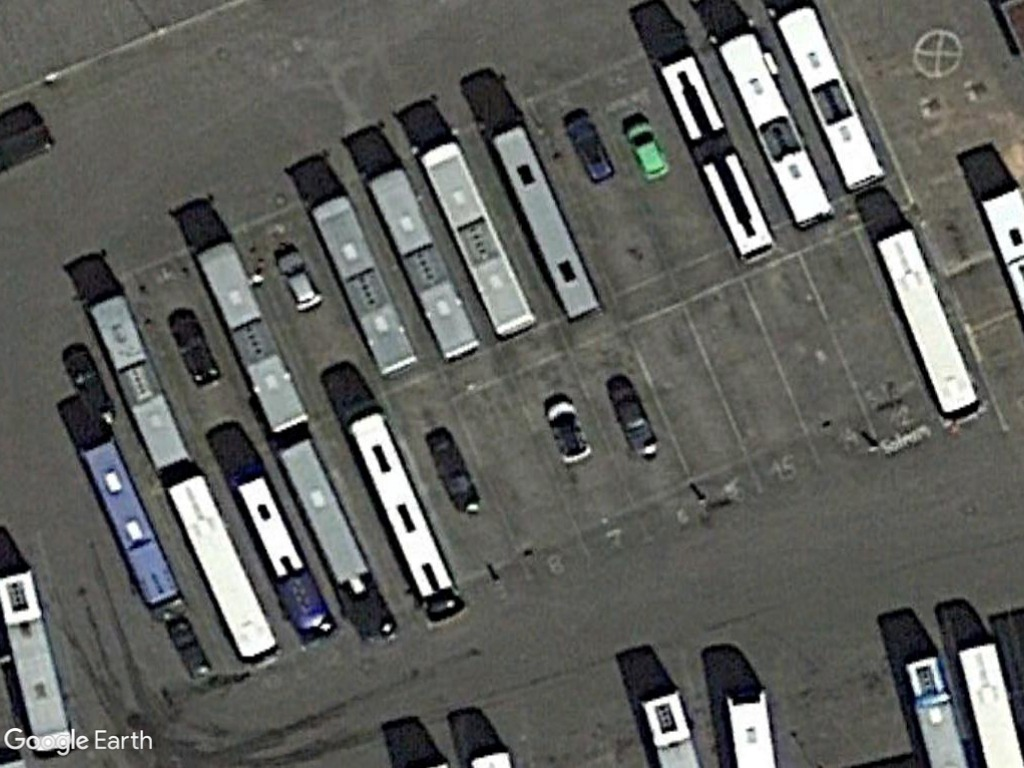bus: (341, 410, 466, 629), (651, 48, 777, 261), (414, 140, 544, 341), (271, 436, 396, 641), (715, 24, 837, 230), (161, 469, 281, 670), (188, 237, 309, 435), (362, 166, 483, 363), (486, 124, 602, 321), (304, 194, 426, 380), (875, 226, 984, 428), (772, 6, 888, 193), (225, 465, 338, 649), (83, 291, 192, 478), (70, 439, 185, 615), (0, 566, 73, 753)
car: (620, 119, 672, 184)
